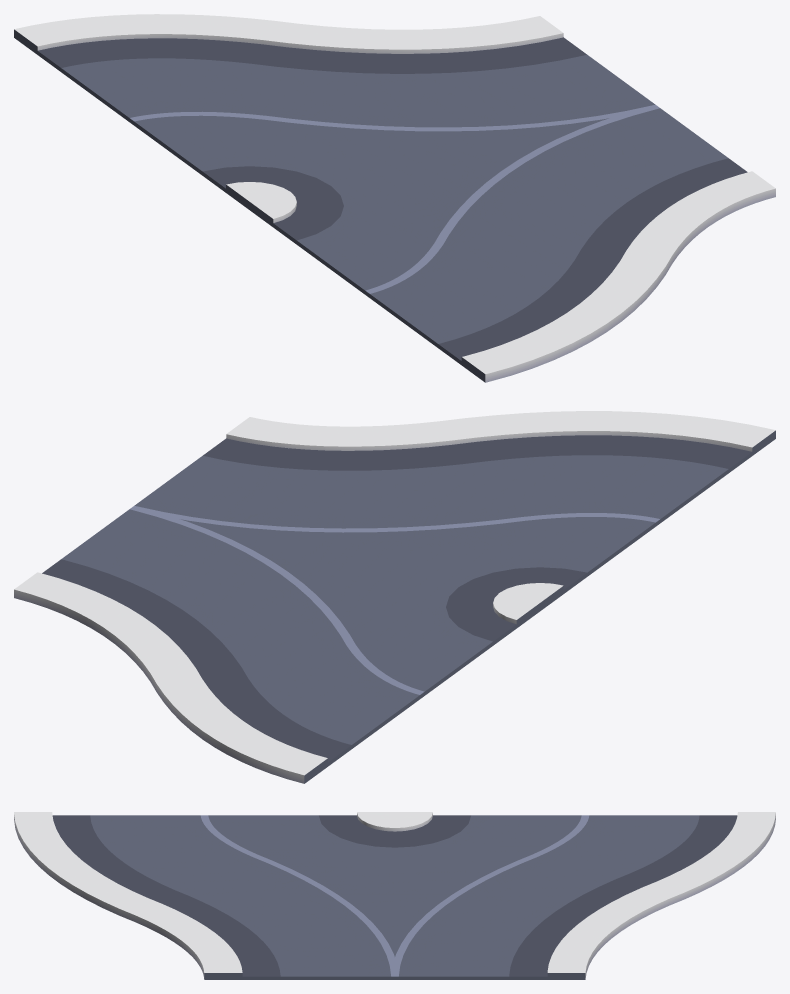
Rendered from road-split.glb.
3 renders of one model, top to bottom at view 1: azimuth 30°, elevation 25°; view 2: azimuth 150°, elevation 25°; view 3: azimuth 270°, elevation 25°, orthographic. The views are drawn at different scales.
Visible parts, largest first — view 1: road-split; view 2: road-split; view 3: road-split.
Part boxes in pixels (left/top/right/bottom): road-split: left=14, top=14, right=775, bottom=382; road-split: left=14, top=411, right=775, bottom=783; road-split: left=14, top=812, right=775, bottom=979.
Bounding box in the file's own units: 1 × 0.02 × 2.
1 material, 1 textured.
